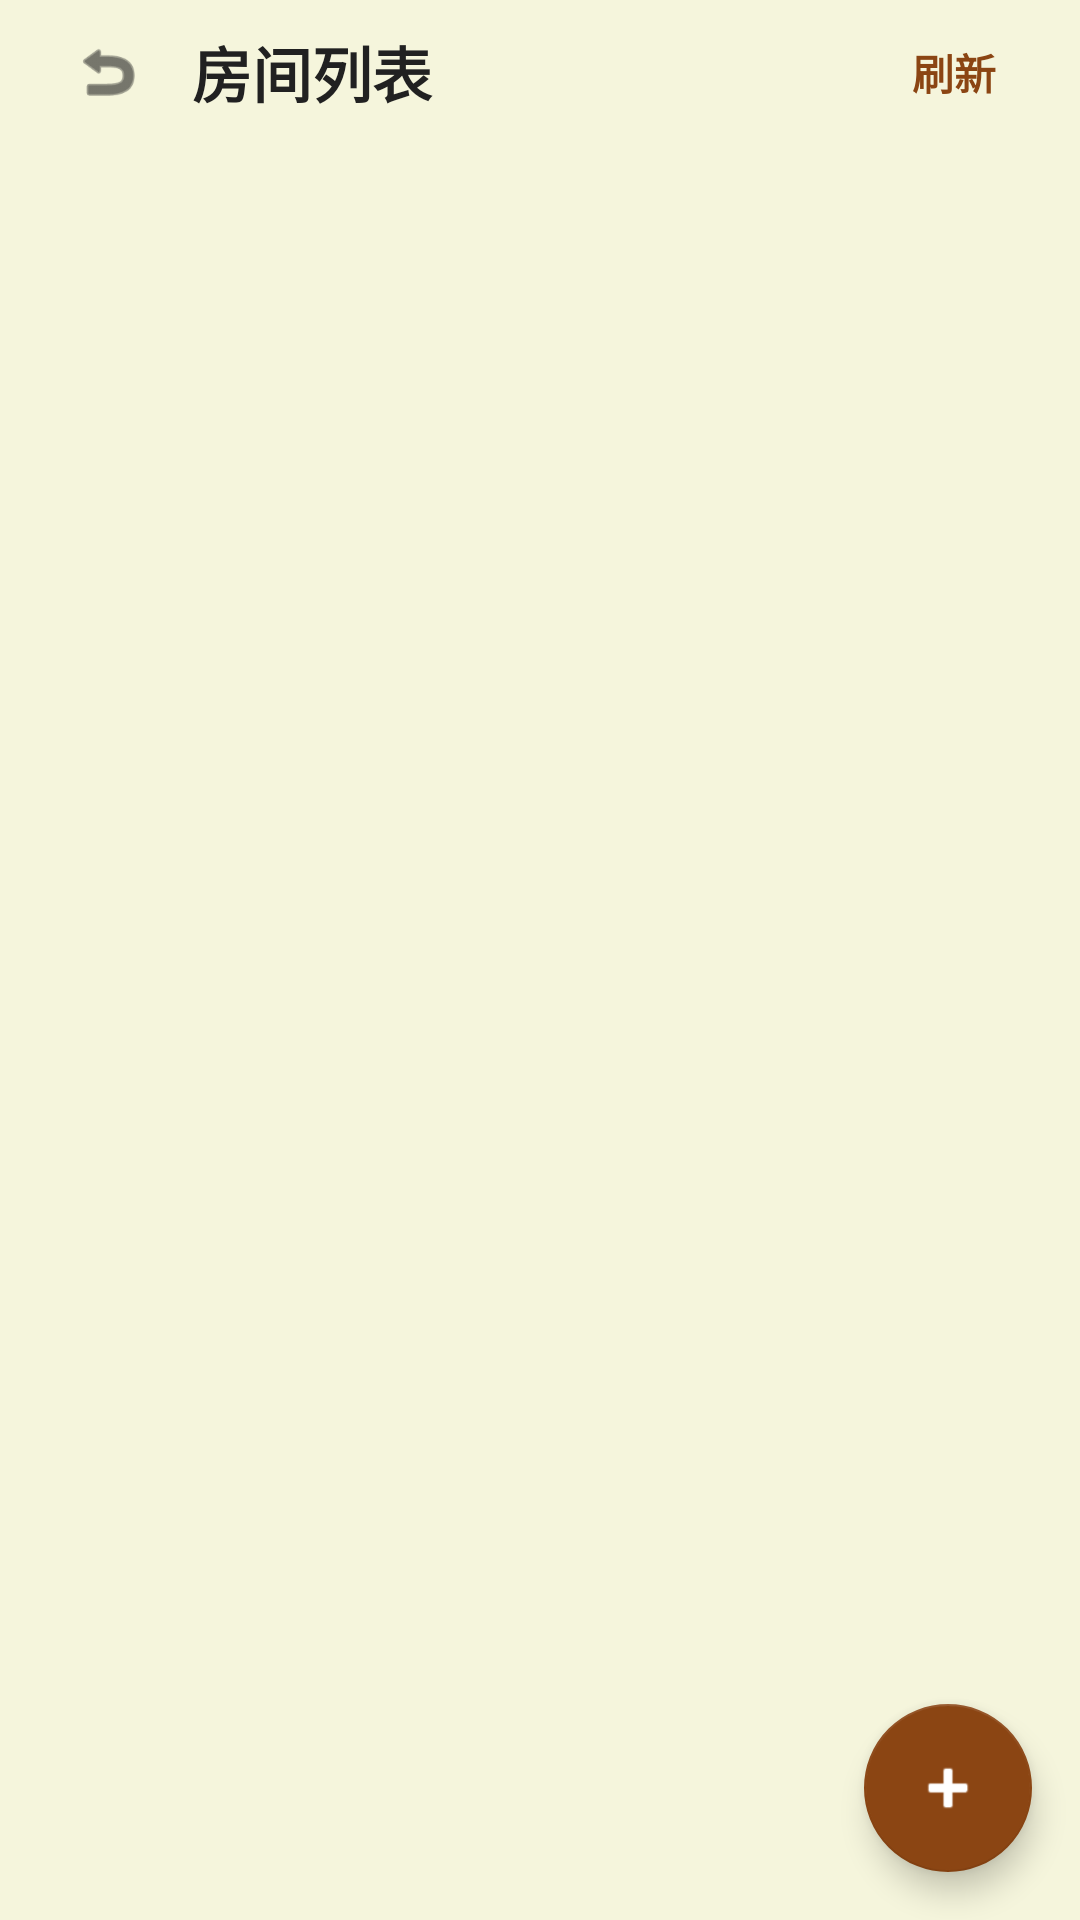

Screen size 1080×1920. Icon name, then its center in pixels as point (x, y):
创建房间: point (948, 1788)
返回: point (109, 72)
